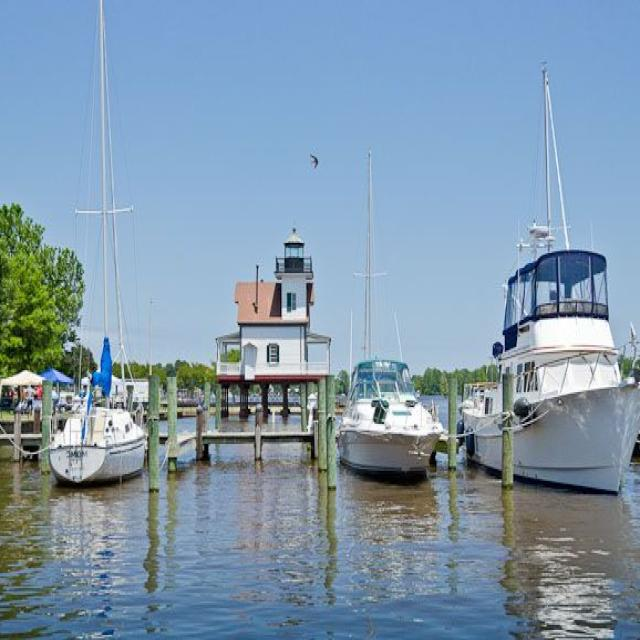houseboat: (462, 165, 638, 494), (342, 324, 450, 480), (46, 377, 144, 485)
